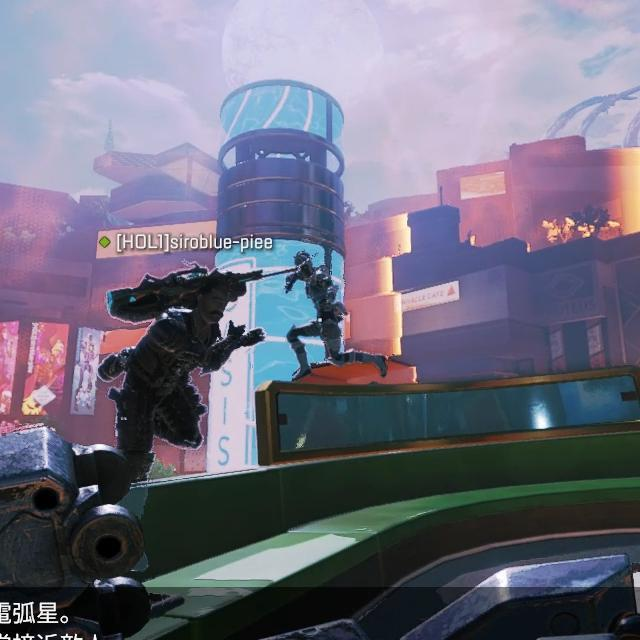avatar: (93, 268, 269, 450), (283, 251, 349, 383)
